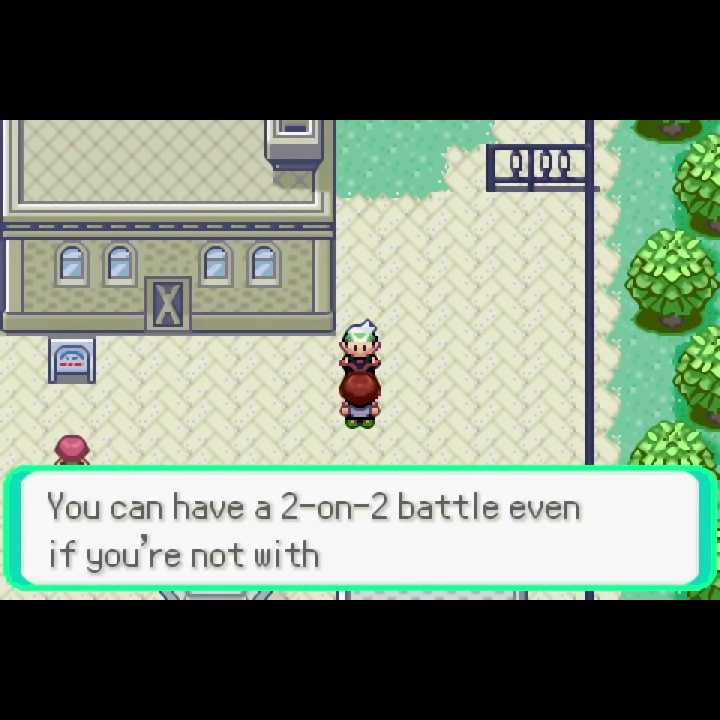house: (1, 120, 338, 338)
npc: (337, 373, 384, 432), (336, 317, 384, 373), (52, 433, 93, 466)
wall: (624, 226, 720, 335), (671, 324, 720, 434), (672, 133, 720, 241), (625, 418, 720, 466), (631, 119, 720, 145)
